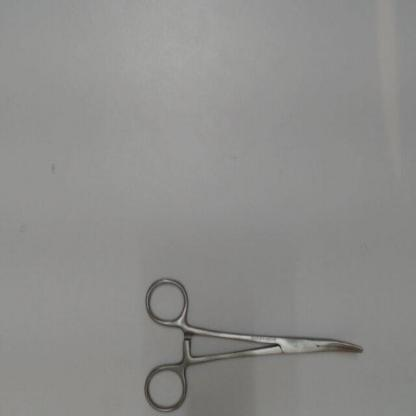Crile Artery Forceps: (139, 266, 371, 414)
